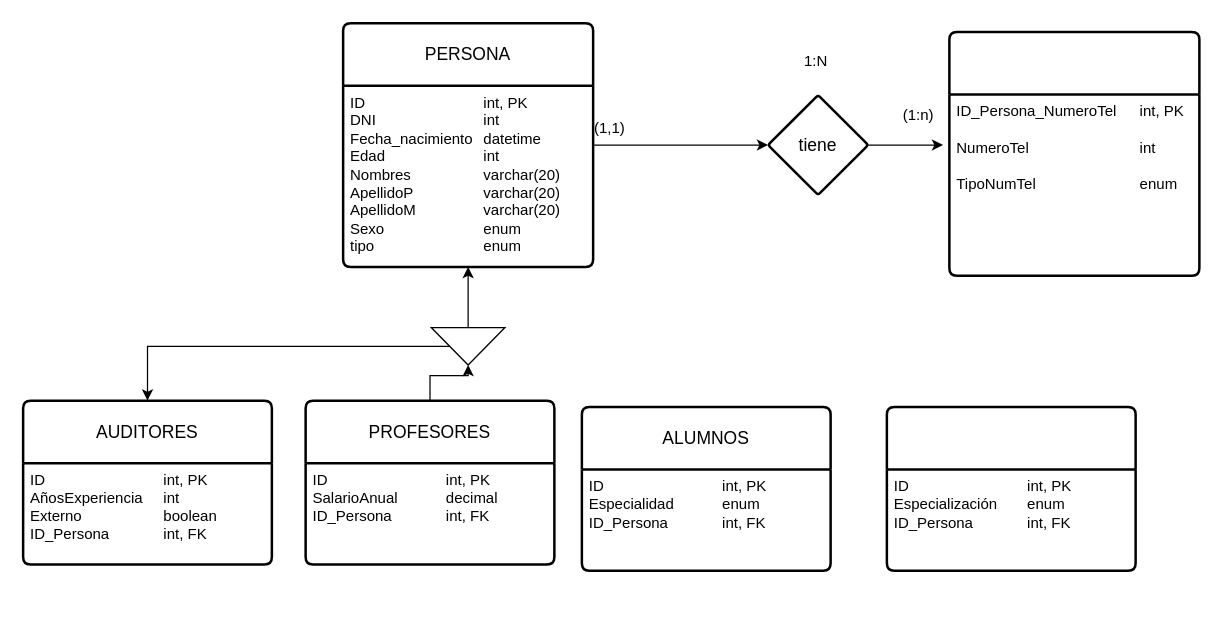
Image size: 1221x619. Some labels were removed from this diagram. The shapes that lost their labels are listed below. From the top down, each one's box as (x1, y1, x2, y2) in pixels, then its label:
(948, 30, 1200, 276): TELEFONOS
(885, 405, 1136, 571): ADMINISTRATIVOS
